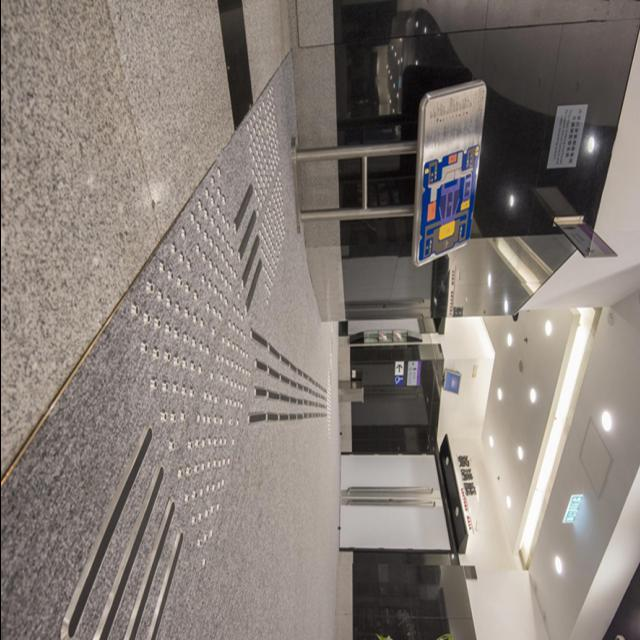tactile-guide-path: (130, 167, 250, 569), (58, 428, 188, 639), (243, 93, 285, 304), (250, 328, 326, 426), (232, 186, 262, 314)
